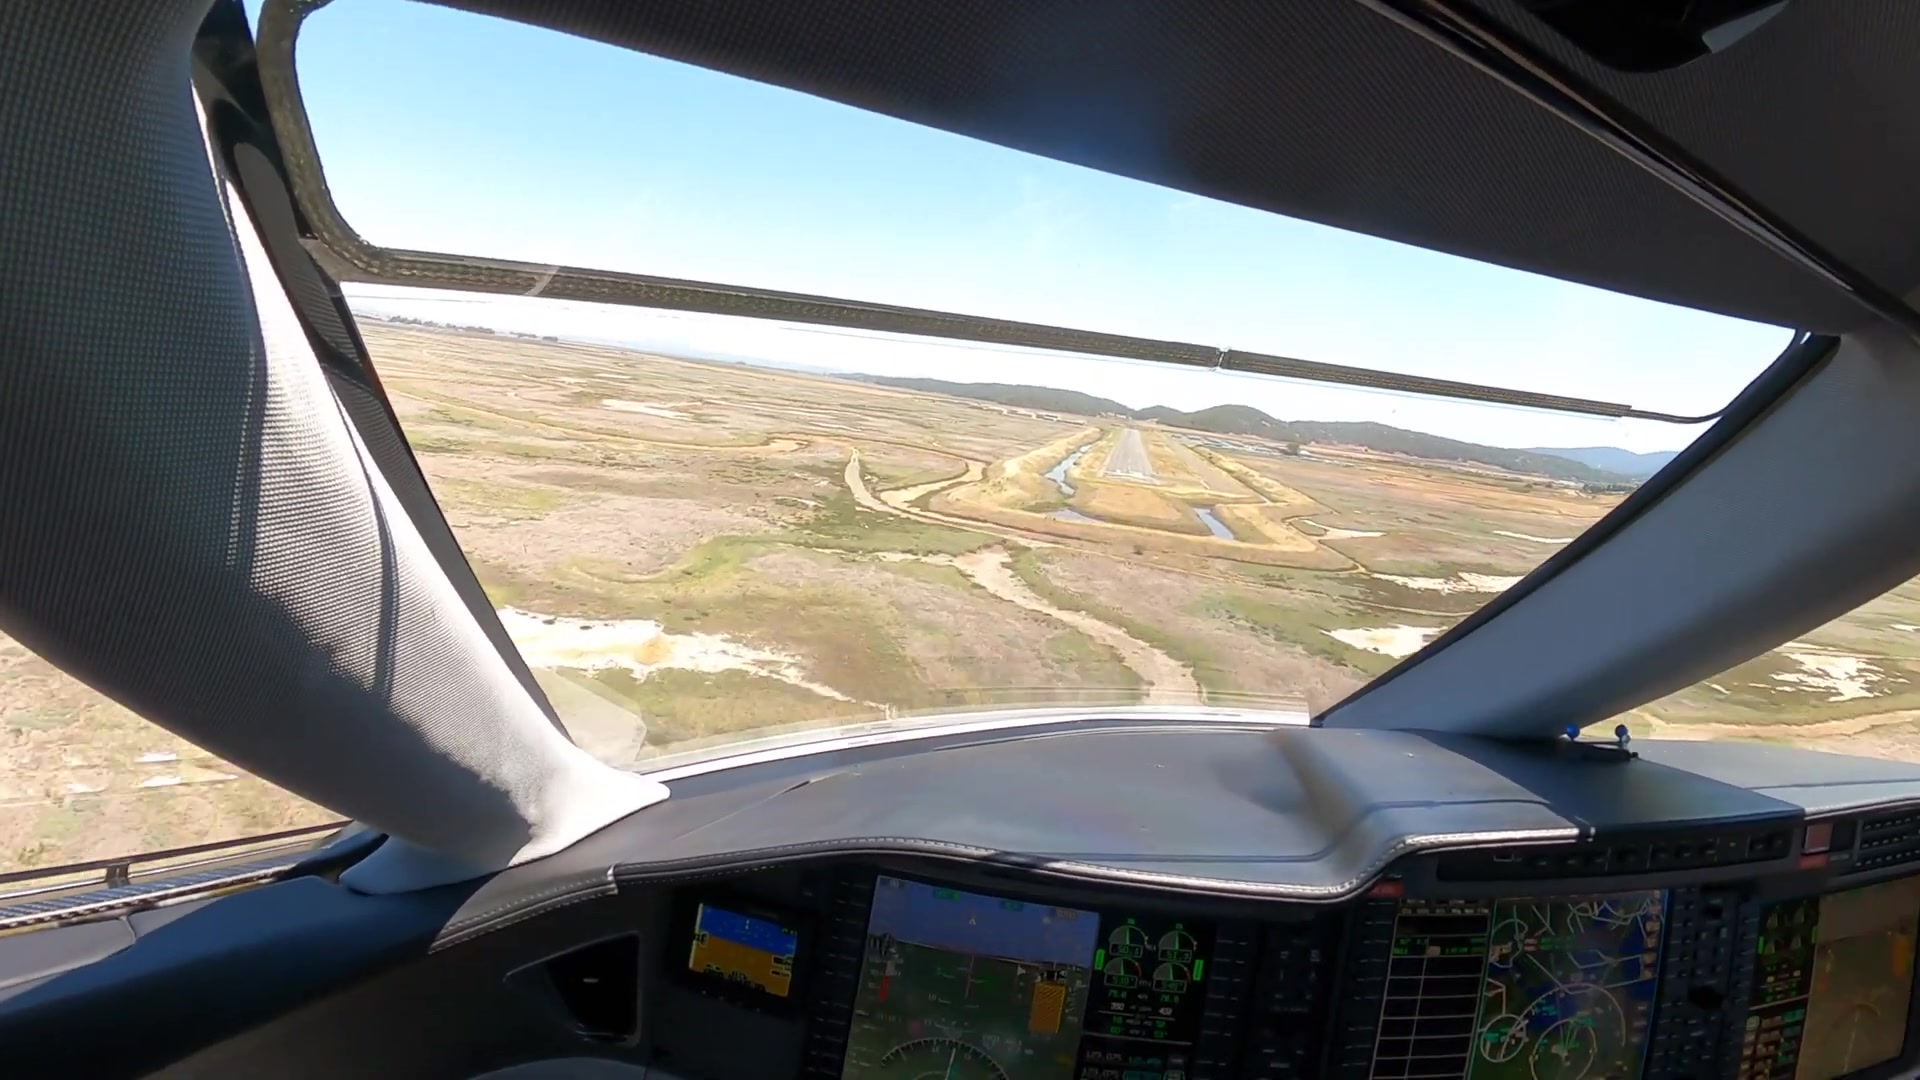runway: (1096, 429, 1160, 477)
